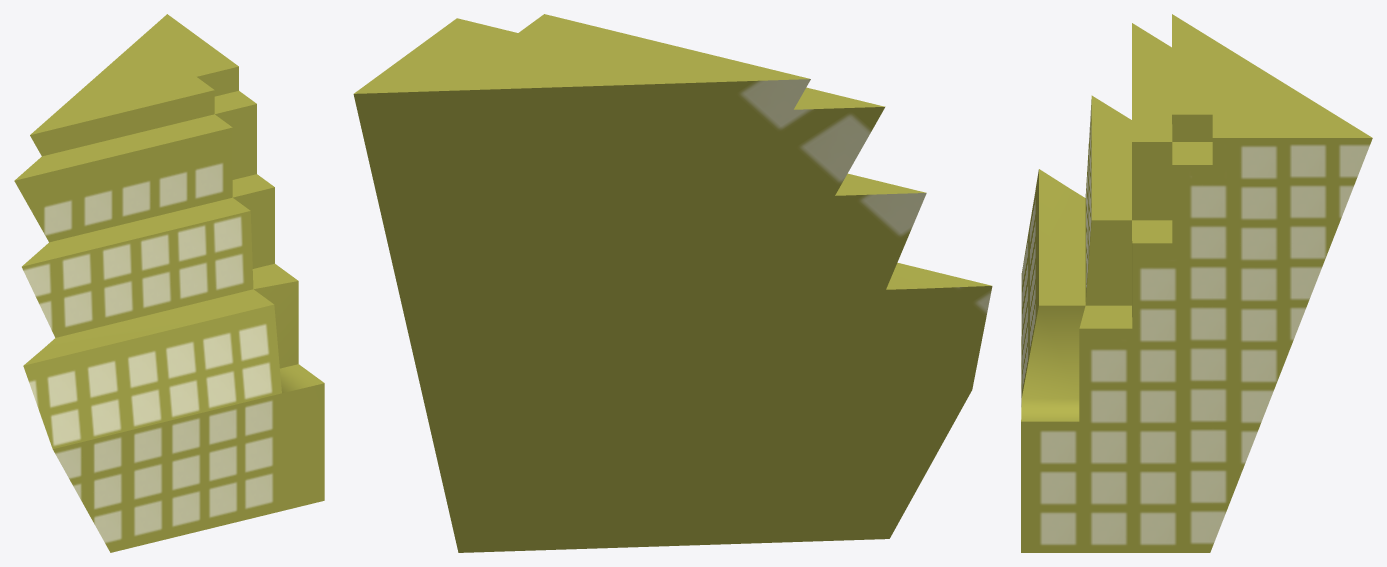
Rendered from r2Shard1.fbx.
3 views of the same model, side by side, from view 1: azimuth 30°, elevation 25°; view 2: azimuth 150°, elevation 25°; view 3: azimuth 270°, elevation 25° (orthographic). The views are drawn at different scales.
Parts seen in each view (by area): view 1: shard41; view 2: shard41; view 3: shard41.
Part boxes in pixels (x1,y1,x2,y2): shard41: (14,14,324,552); shard41: (353,14,992,552); shard41: (1021,14,1372,552).
Size of the model in its own units: 0.1414 by 0.1709 by 0.1313.
1 material, 1 textured.
